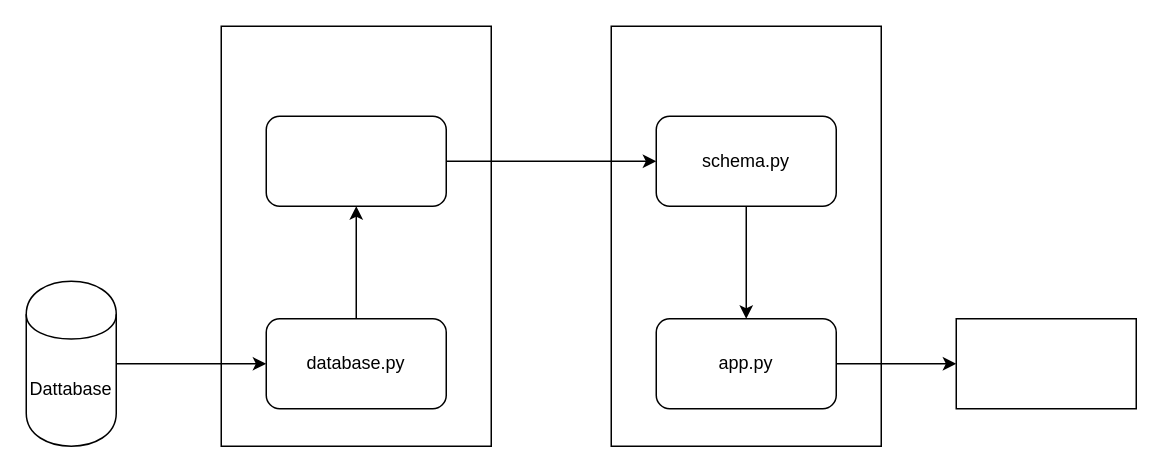
Some shapes in this 1163 by 473 pixel diagram are drawn without their labels. Here are the shapes that lost their labels. From the top down, the box of each, then its label:
(265, 115, 446, 206): models.py
(955, 317, 1136, 409): user
